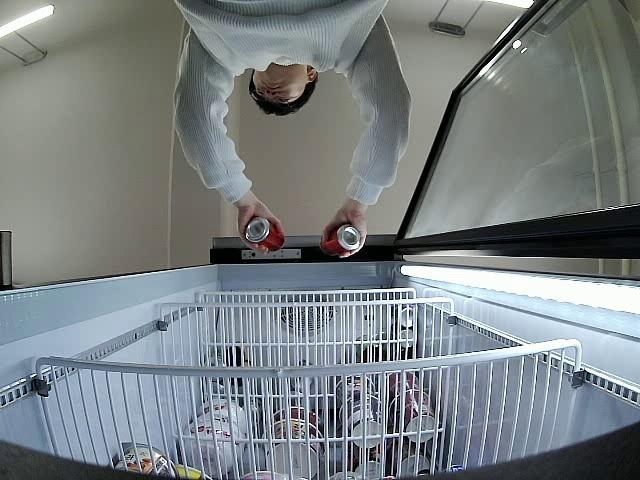00_hand: (324, 204, 369, 261), (236, 198, 281, 254)
11_cocaColaZero: (244, 214, 286, 257), (319, 225, 360, 258)
